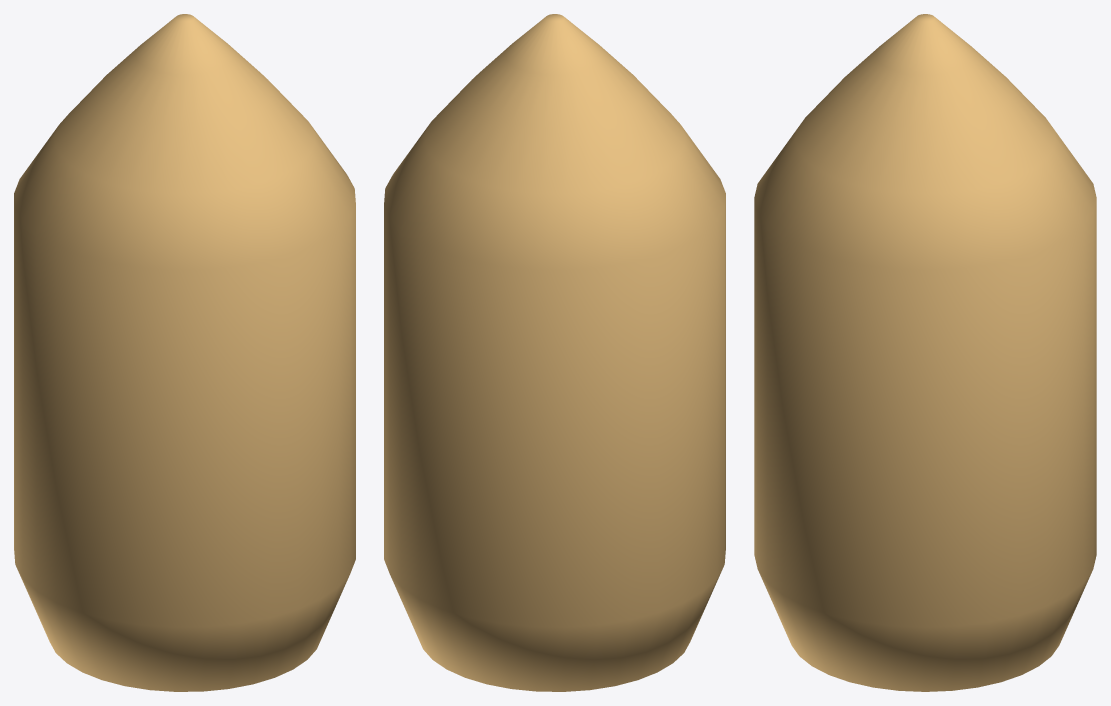
The model's file is bullet.fbx.
3 renders of one model, left to right at view 1: azimuth 30°, elevation 25°; view 2: azimuth 150°, elevation 25°; view 3: azimuth 270°, elevation 25°, orthographic.
Visible parts, largest first — view 1: Cylinder; view 2: Cylinder; view 3: Cylinder.
Part boxes in pixels (x1=…): Cylinder: x1=14, y1=14, x2=355, y2=691; Cylinder: x1=384, y1=14, x2=725, y2=691; Cylinder: x1=754, y1=14, x2=1096, y2=691.
Size of the model in its own units: 45.18 by 89.74 by 45.18.
